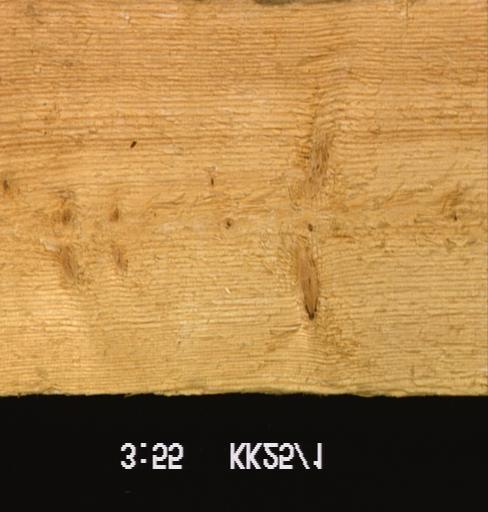small_knot: (0, 171, 22, 202), (102, 202, 126, 229), (203, 169, 220, 192), (446, 206, 463, 228), (219, 214, 235, 235)
